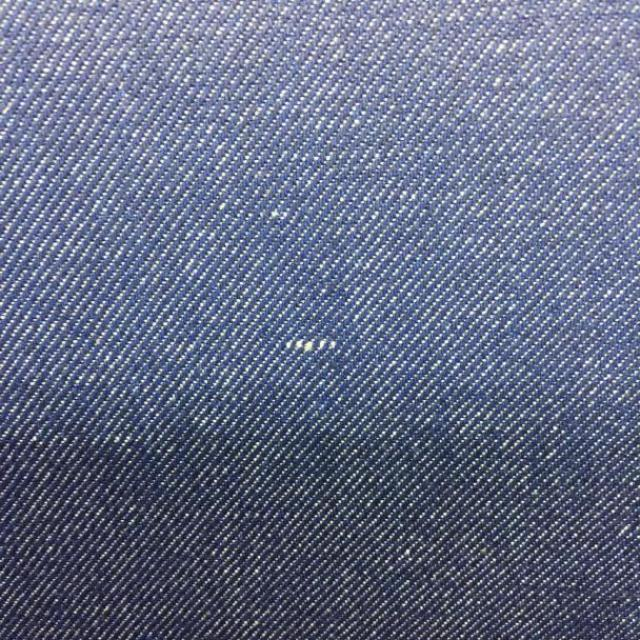Knot: (285, 340, 337, 352)
